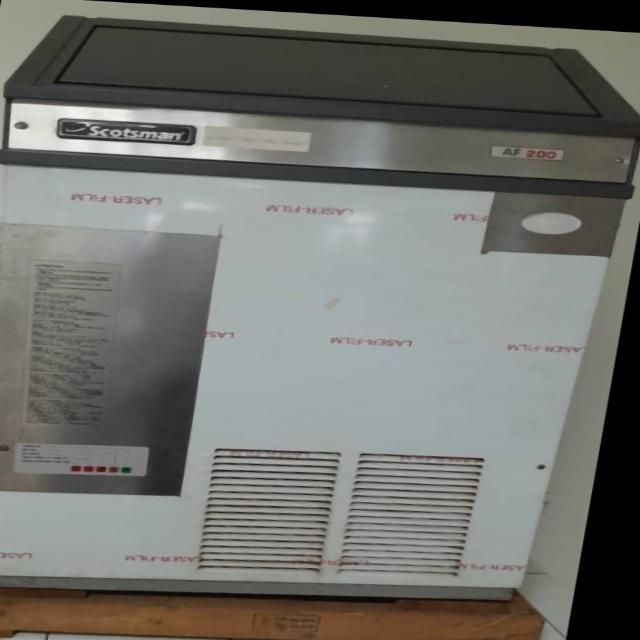Ice Maker: (0, 1, 640, 615)
